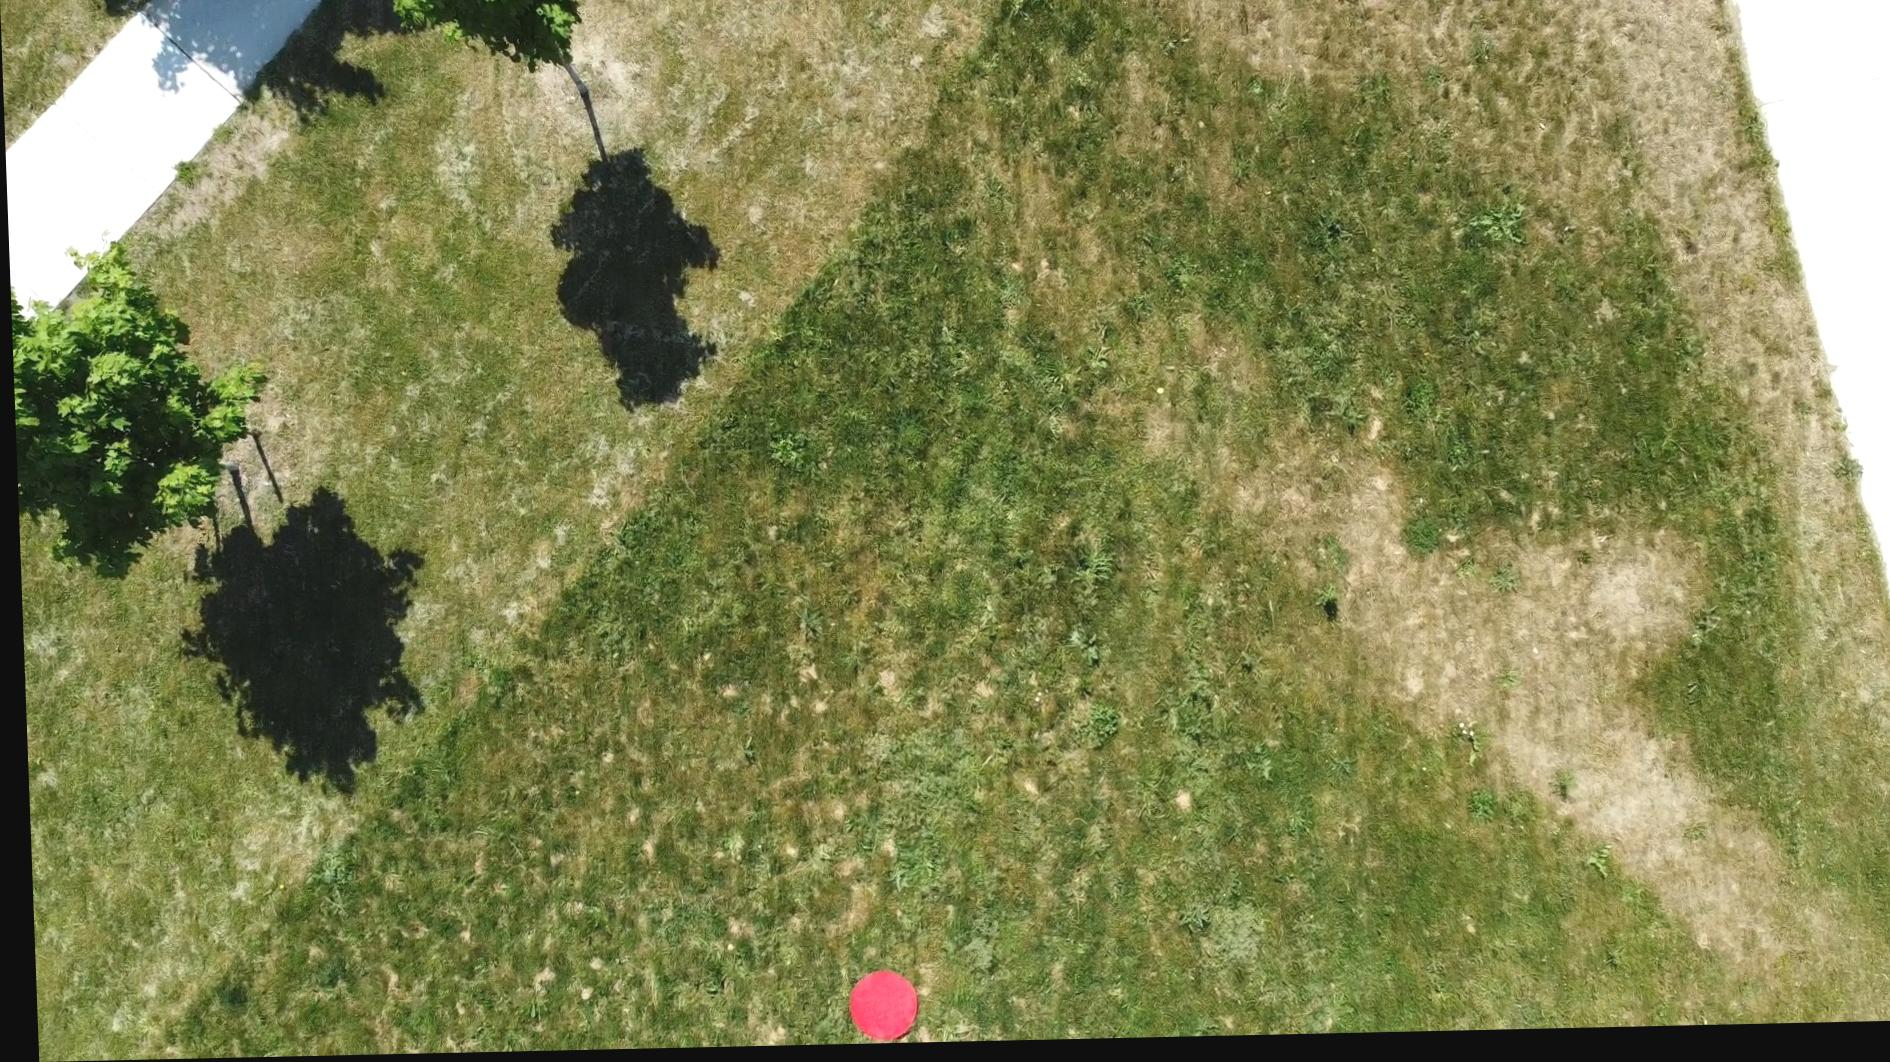Red: (837, 971, 914, 1048)
